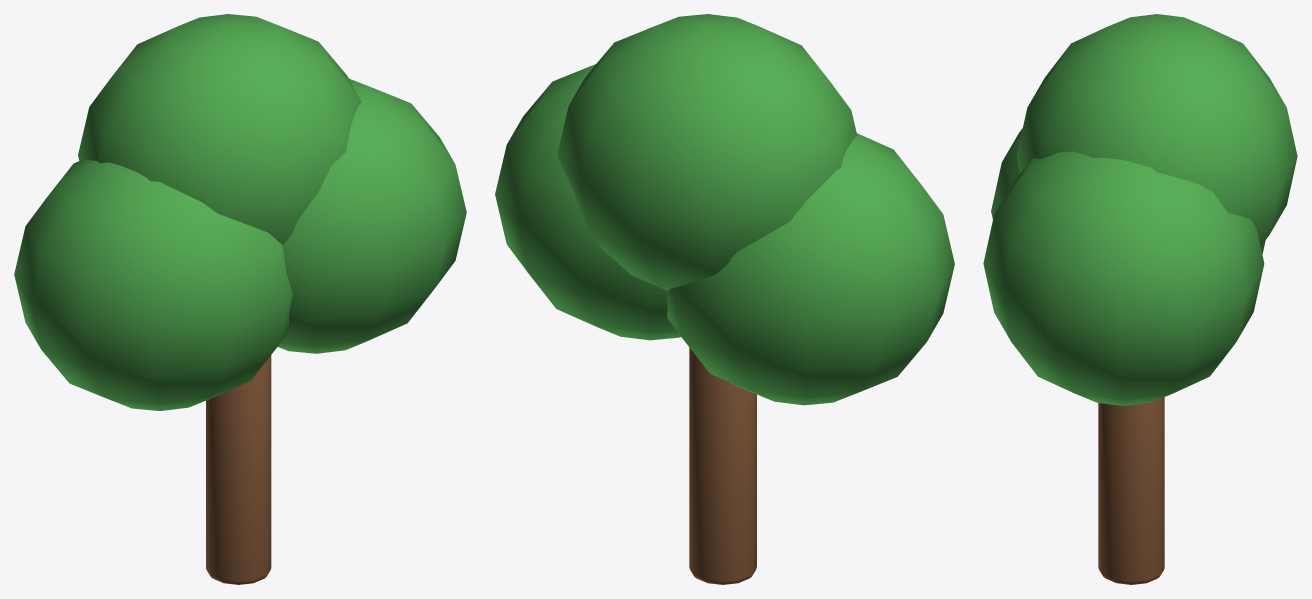
Rendered from org_oak.glb.
The picture shows the model from 3 angles, left to right: view 1: azimuth 30°, elevation 25°; view 2: azimuth 150°, elevation 25°; view 3: azimuth 270°, elevation 25°; orthographic projection. The views are drawn at different scales.
Parts seen in each view (by area): view 1: Foliage, Trunk; view 2: Foliage, Trunk; view 3: Foliage, Trunk.
Part boxes in pixels (x1,y1,x2,y2): Foliage: [14, 14, 466, 410]; Trunk: [206, 355, 271, 584]; Foliage: [495, 14, 954, 405]; Trunk: [689, 347, 756, 584]; Foliage: [983, 14, 1297, 405]; Trunk: [1098, 397, 1164, 584].
Bounding box in the file's own units: 1.94 × 2.4 × 1.26.
